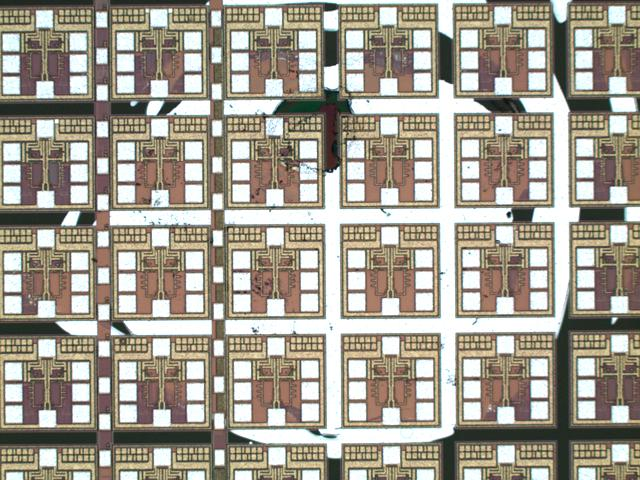BLOCK ETCH: (29, 1, 616, 480)
